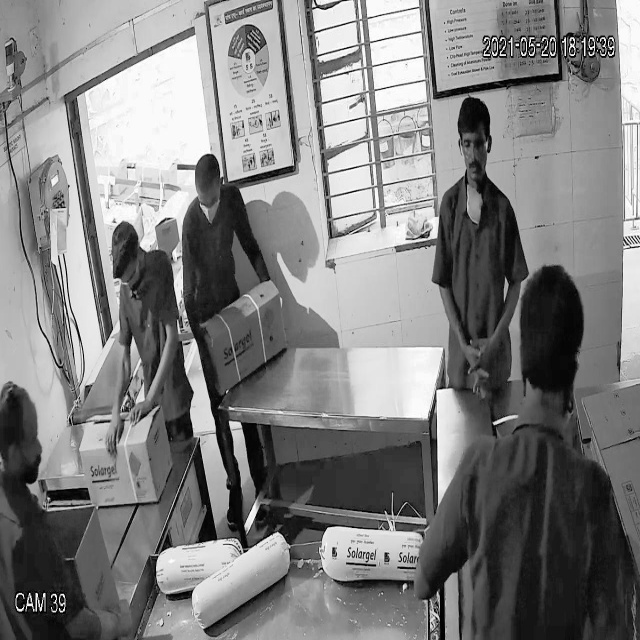Gafas: (458, 133, 491, 159)
